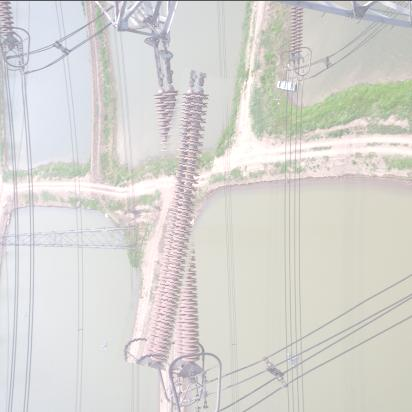insulator: (134, 70, 218, 370)
